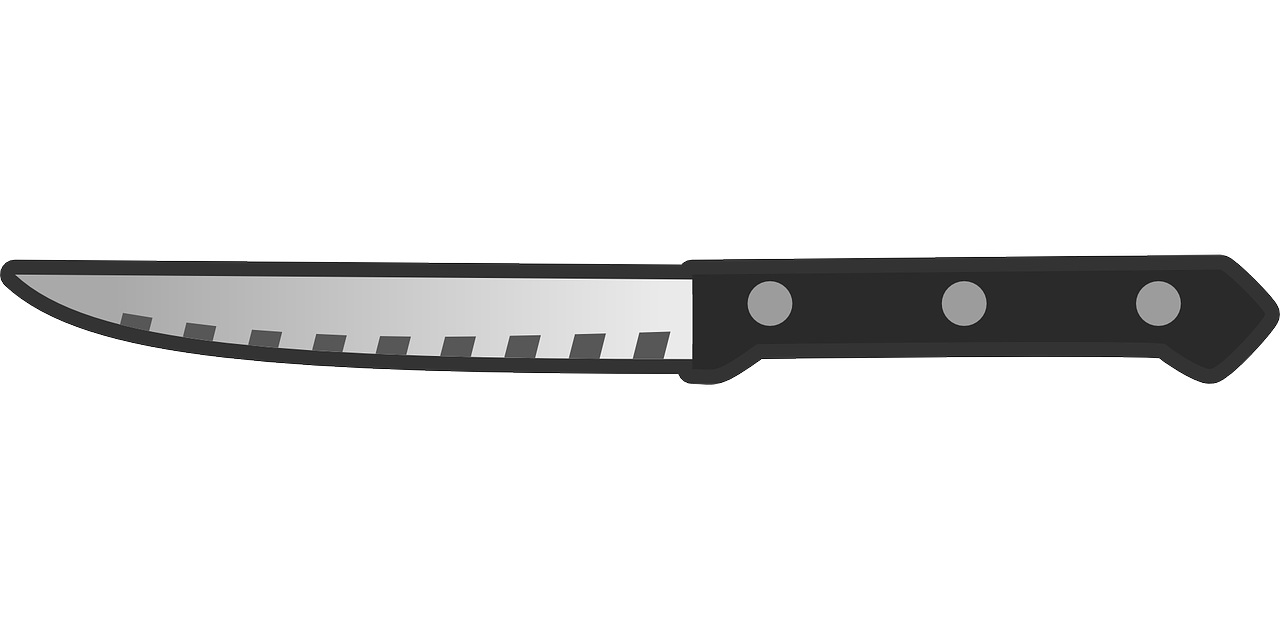knife: (6, 257, 1278, 389)
